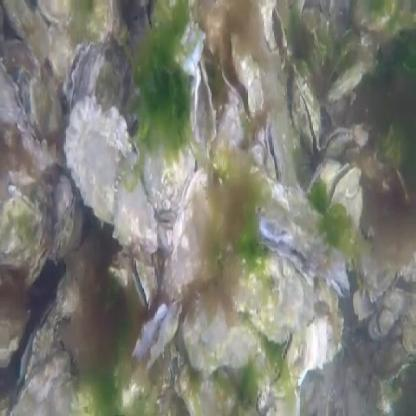3: (254, 184, 348, 295), (220, 36, 266, 116), (132, 301, 183, 368), (188, 59, 217, 145), (263, 4, 285, 59), (134, 258, 158, 306), (180, 22, 205, 65)
Oyster- Indeterminate: (20, 298, 60, 385), (268, 320, 303, 395), (326, 165, 361, 238), (291, 74, 322, 152), (66, 37, 94, 106), (0, 57, 25, 126), (265, 112, 286, 182), (321, 128, 355, 159), (28, 246, 50, 287), (254, 390, 269, 416)
Oyster-Closed: (65, 99, 141, 223), (221, 246, 311, 339), (169, 169, 216, 287), (113, 175, 159, 255), (180, 363, 239, 416), (0, 198, 40, 267), (311, 290, 345, 364), (359, 249, 398, 303), (30, 81, 63, 136), (375, 336, 408, 382), (328, 60, 365, 101), (305, 315, 329, 372), (309, 160, 342, 201), (23, 135, 58, 172), (355, 0, 396, 31), (50, 24, 73, 79), (57, 269, 80, 317), (84, 0, 113, 37), (54, 175, 75, 221), (402, 296, 416, 352), (38, 0, 72, 21), (353, 286, 374, 319), (378, 308, 396, 332)
